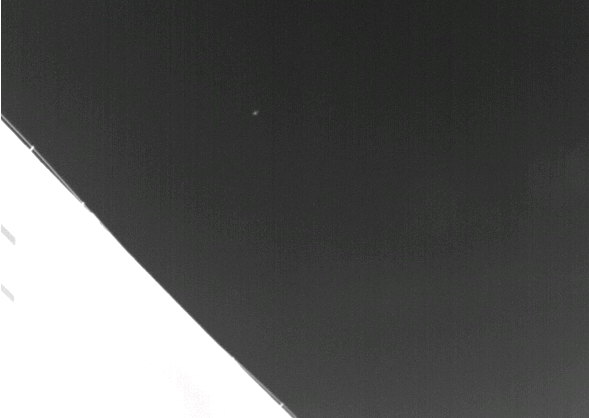dim target: (250, 109, 259, 116)
